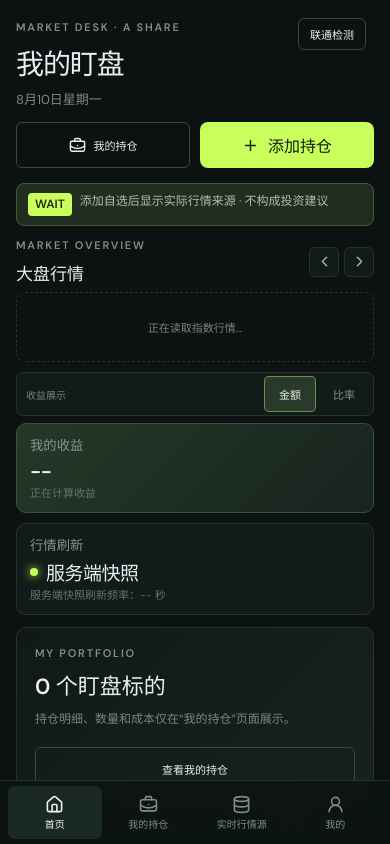
Test case: Dashboard › 手机导航保持四个主入口并直接进入我的页面
The width and height of the screenshot is (390, 844).
Check: the button "首页" is shown, box 8,786 -> 102,839
Check: the 2nd button "我的持仓" is shown, box 102,786 -> 195,839
Click the button "我的": (335, 812) 288,786 -> 382,839
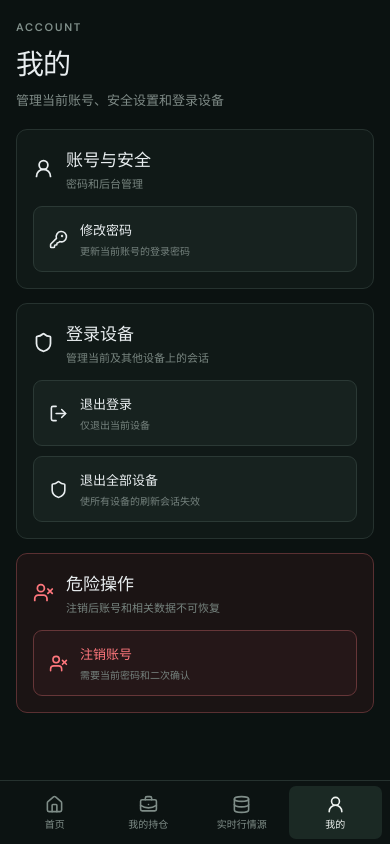
Check: the button "修改密码 更新当前账号的登录密码" is shown, box 33,206 -> 357,272
Check: the button "退出登录 仅退出当前设备" is shown, box 33,380 -> 357,446
Check: the button "退出全部设备 使所有设备的刷新会话失效" is shown, box 33,456 -> 357,522
